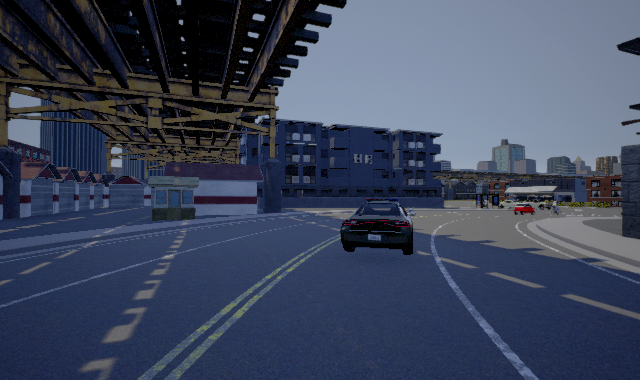vehicle: (340, 198, 416, 255), (513, 199, 535, 218)
